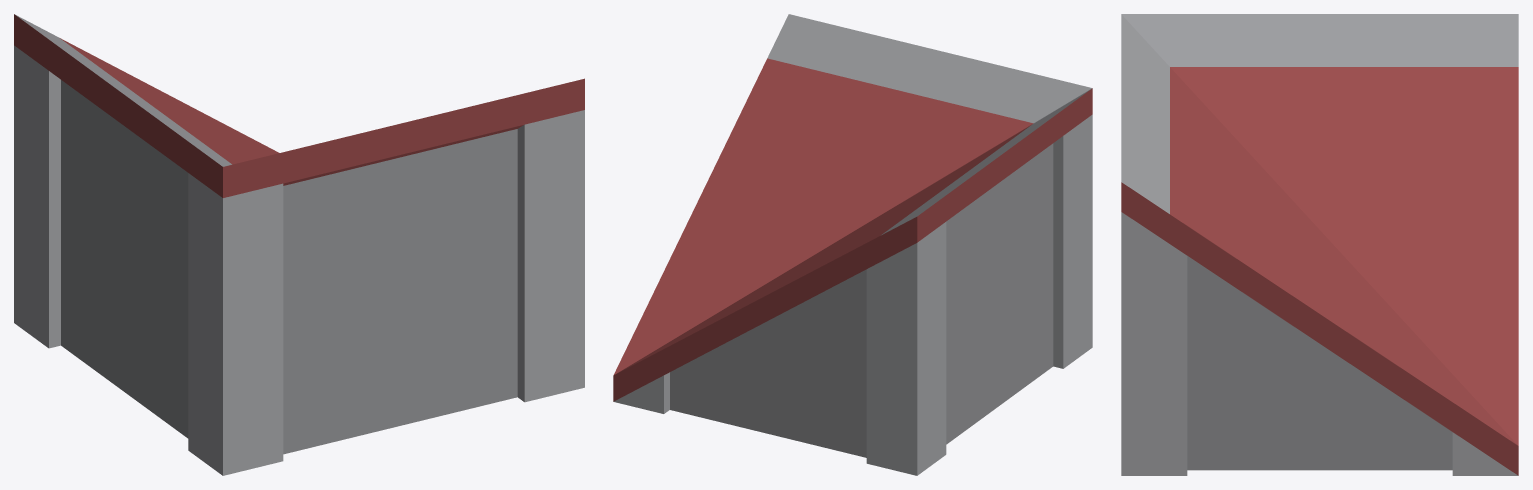
Rendered from Roof_Inner_Corner_Red_01.obj.
3 renders of one model, left to right at view 1: azimuth 30°, elevation 25°; view 2: azimuth 150°, elevation 25°; view 3: azimuth 270°, elevation 25°, orthographic. The views are drawn at different scales.
Parts seen in each view (by area): view 1: Mesh1_Roof_Inner_Corner_Red_Model; view 2: Mesh1_Roof_Inner_Corner_Red_Model; view 3: Mesh1_Roof_Inner_Corner_Red_Model.
Part boxes in pixels (<box>): Mesh1_Roof_Inner_Corner_Red_Model: <box>14,14,584,475</box>; Mesh1_Roof_Inner_Corner_Red_Model: <box>613,14,1092,475</box>; Mesh1_Roof_Inner_Corner_Red_Model: <box>1121,14,1518,475</box>.
Bounding box in the file's own units: 3 × 2.45 × 3.
